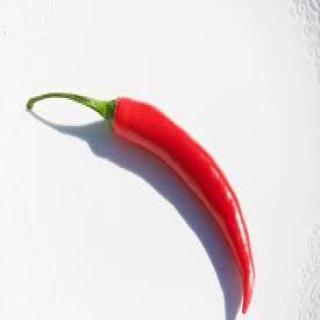Cabai Merah: (112, 96, 258, 311)
